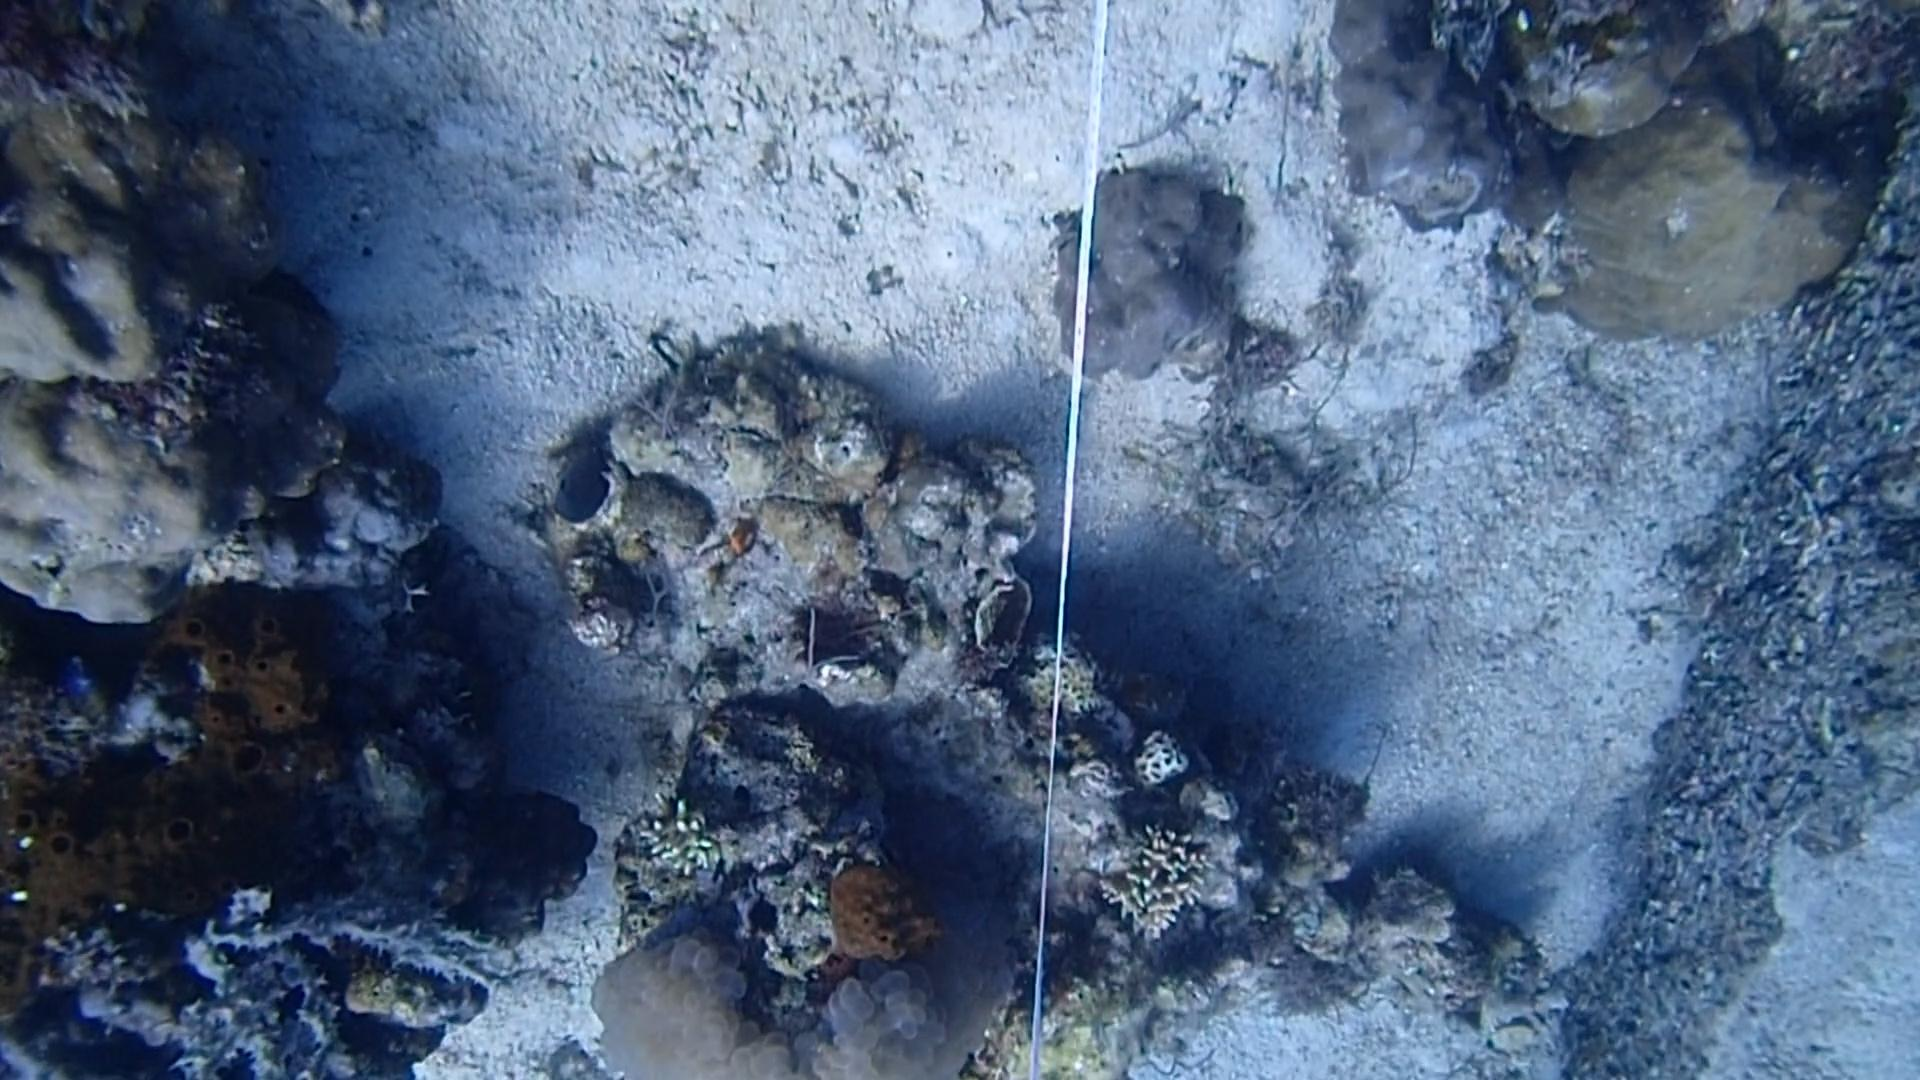Big Dark Blue Fish: (538, 434, 636, 537)
